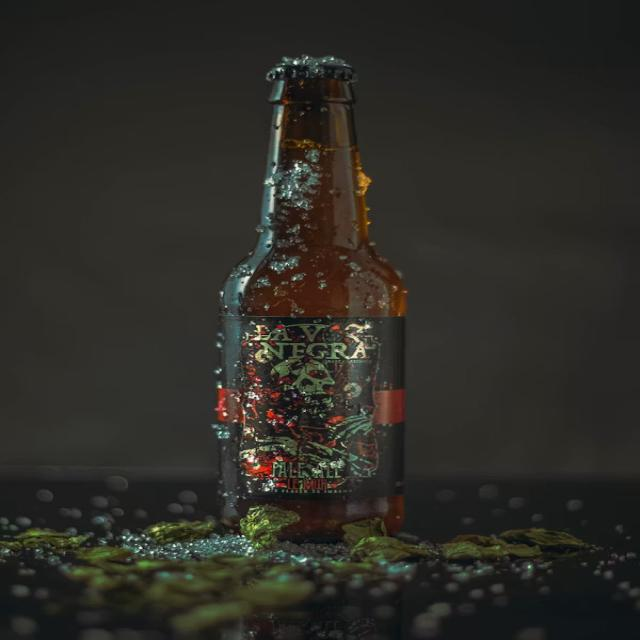Bottle: (218, 56, 406, 540)
